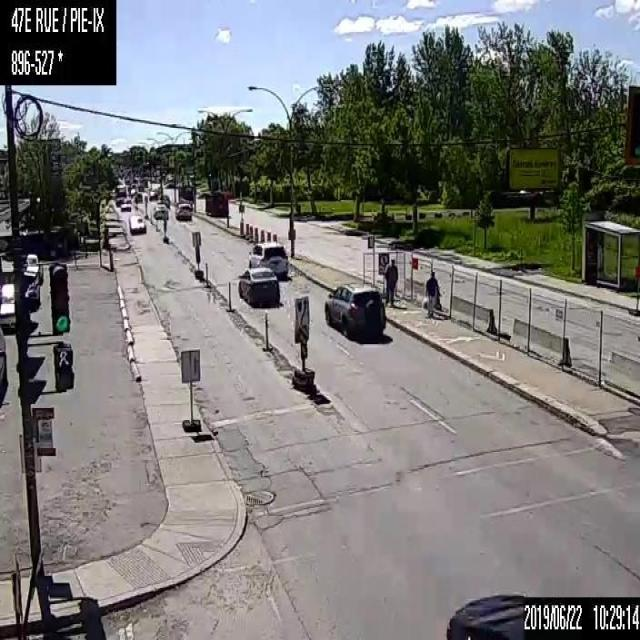construction: (264, 311, 269, 352), (227, 281, 231, 312), (248, 224, 253, 242), (253, 224, 258, 242), (205, 263, 208, 288), (245, 222, 249, 239), (266, 231, 271, 241), (260, 228, 264, 240), (272, 234, 278, 242)
pedestrian: (424, 270, 441, 318), (383, 259, 397, 309)
vehicle: (444, 590, 522, 638), (323, 281, 385, 339), (237, 266, 279, 307), (246, 242, 288, 278), (0, 282, 15, 330), (23, 269, 38, 308), (205, 190, 228, 215), (25, 250, 43, 280), (128, 212, 146, 235), (174, 201, 192, 220), (0, 327, 5, 393), (152, 202, 169, 219), (115, 184, 127, 204), (157, 193, 169, 207), (120, 196, 131, 210)
